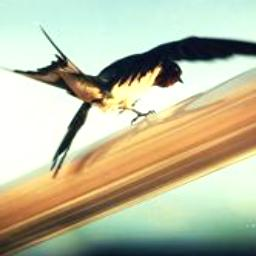Swallow: (0, 22, 256, 179)
